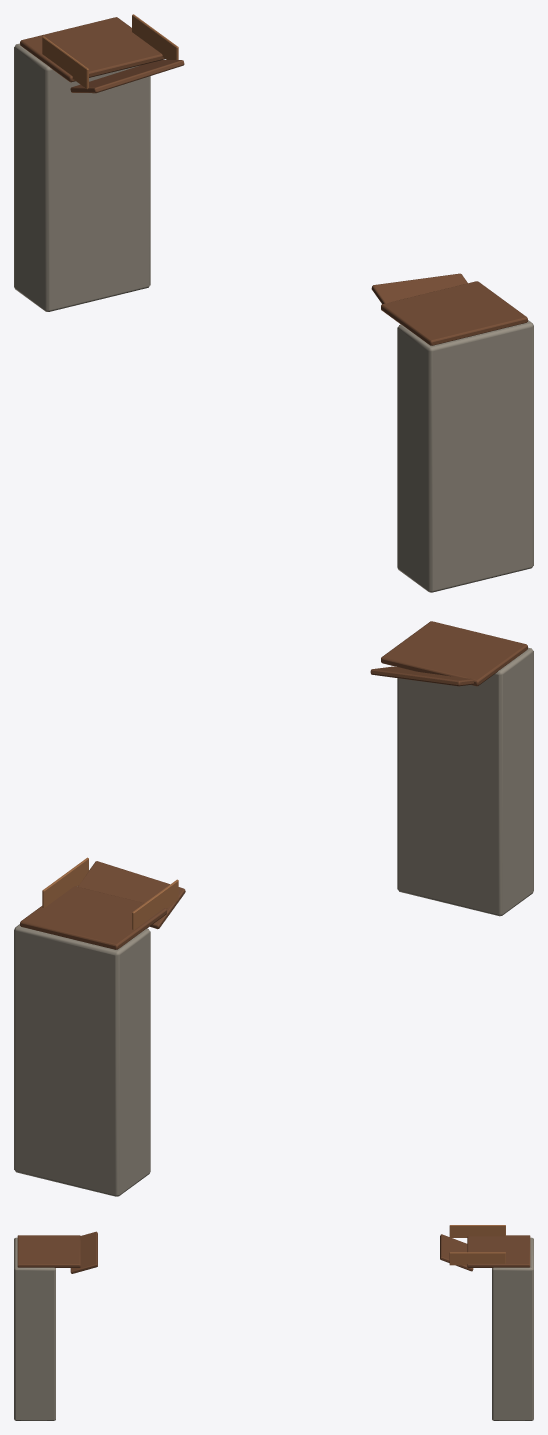
File: old_bridge.glb
3 renders of one model, top to bottom at view 1: azimuth 30°, elevation 25°; view 2: azimuth 150°, elevation 25°; view 3: azimuth 270°, elevation 25°, orthographic. The views are drawn at different scales.
Visible parts, largest first — view 1: body; view 2: body; view 3: body.
Part boxes in pixels (x1=…): body: x1=14, y1=14, x2=533, y2=592; body: x1=14, y1=621, x2=533, y2=1196; body: x1=14, y1=1225, x2=533, y2=1420.
Size of the model in its own units: 5.4 by 13.1 by 37.
